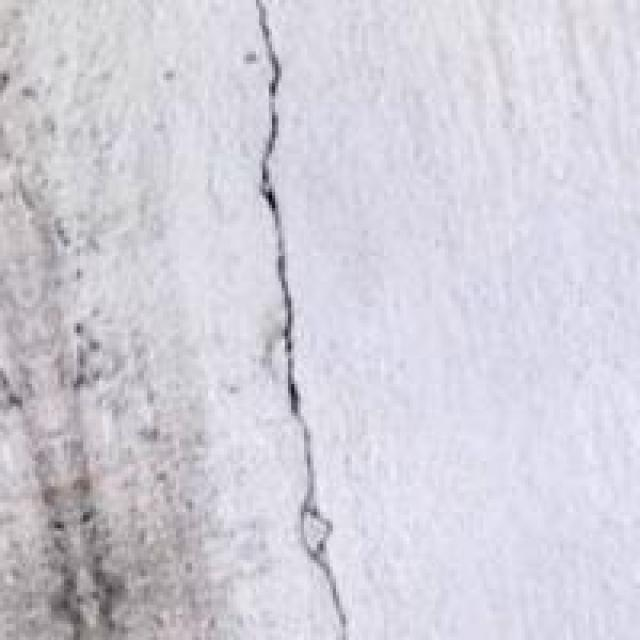crack: (208, 0, 400, 605)
